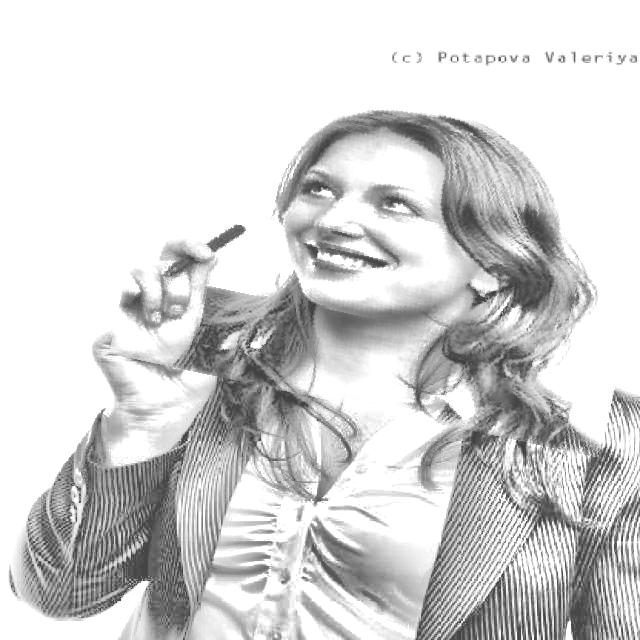happy: (123, 57, 640, 434)
